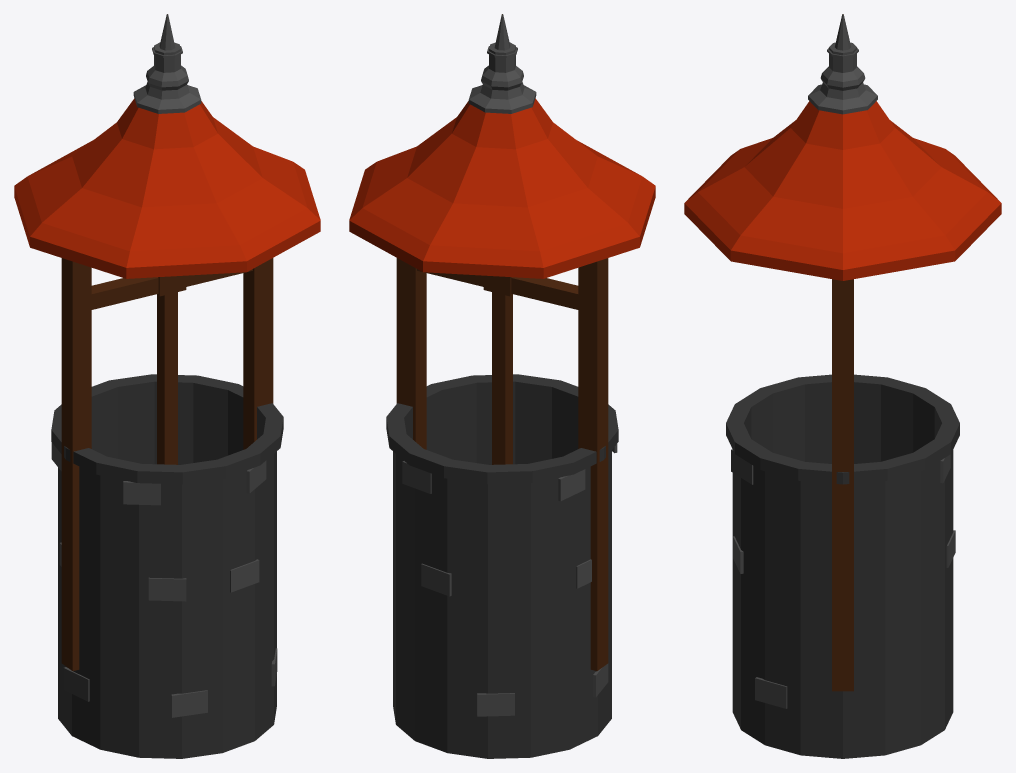
The model's file is Brunnen01.fbx.
The picture shows the model from 3 angles, left to right: view 1: azimuth 30°, elevation 25°; view 2: azimuth 150°, elevation 25°; view 3: azimuth 270°, elevation 25°; orthographic projection.
Visible parts, largest first — view 1: Cylinder; view 2: Cylinder; view 3: Cylinder.
Part boxes in pixels (<box>): Cylinder: <box>14,14,320,758</box>; Cylinder: <box>349,14,655,758</box>; Cylinder: <box>684,14,1001,758</box>.
Size of the model in its own units: 144 by 349 by 144.
